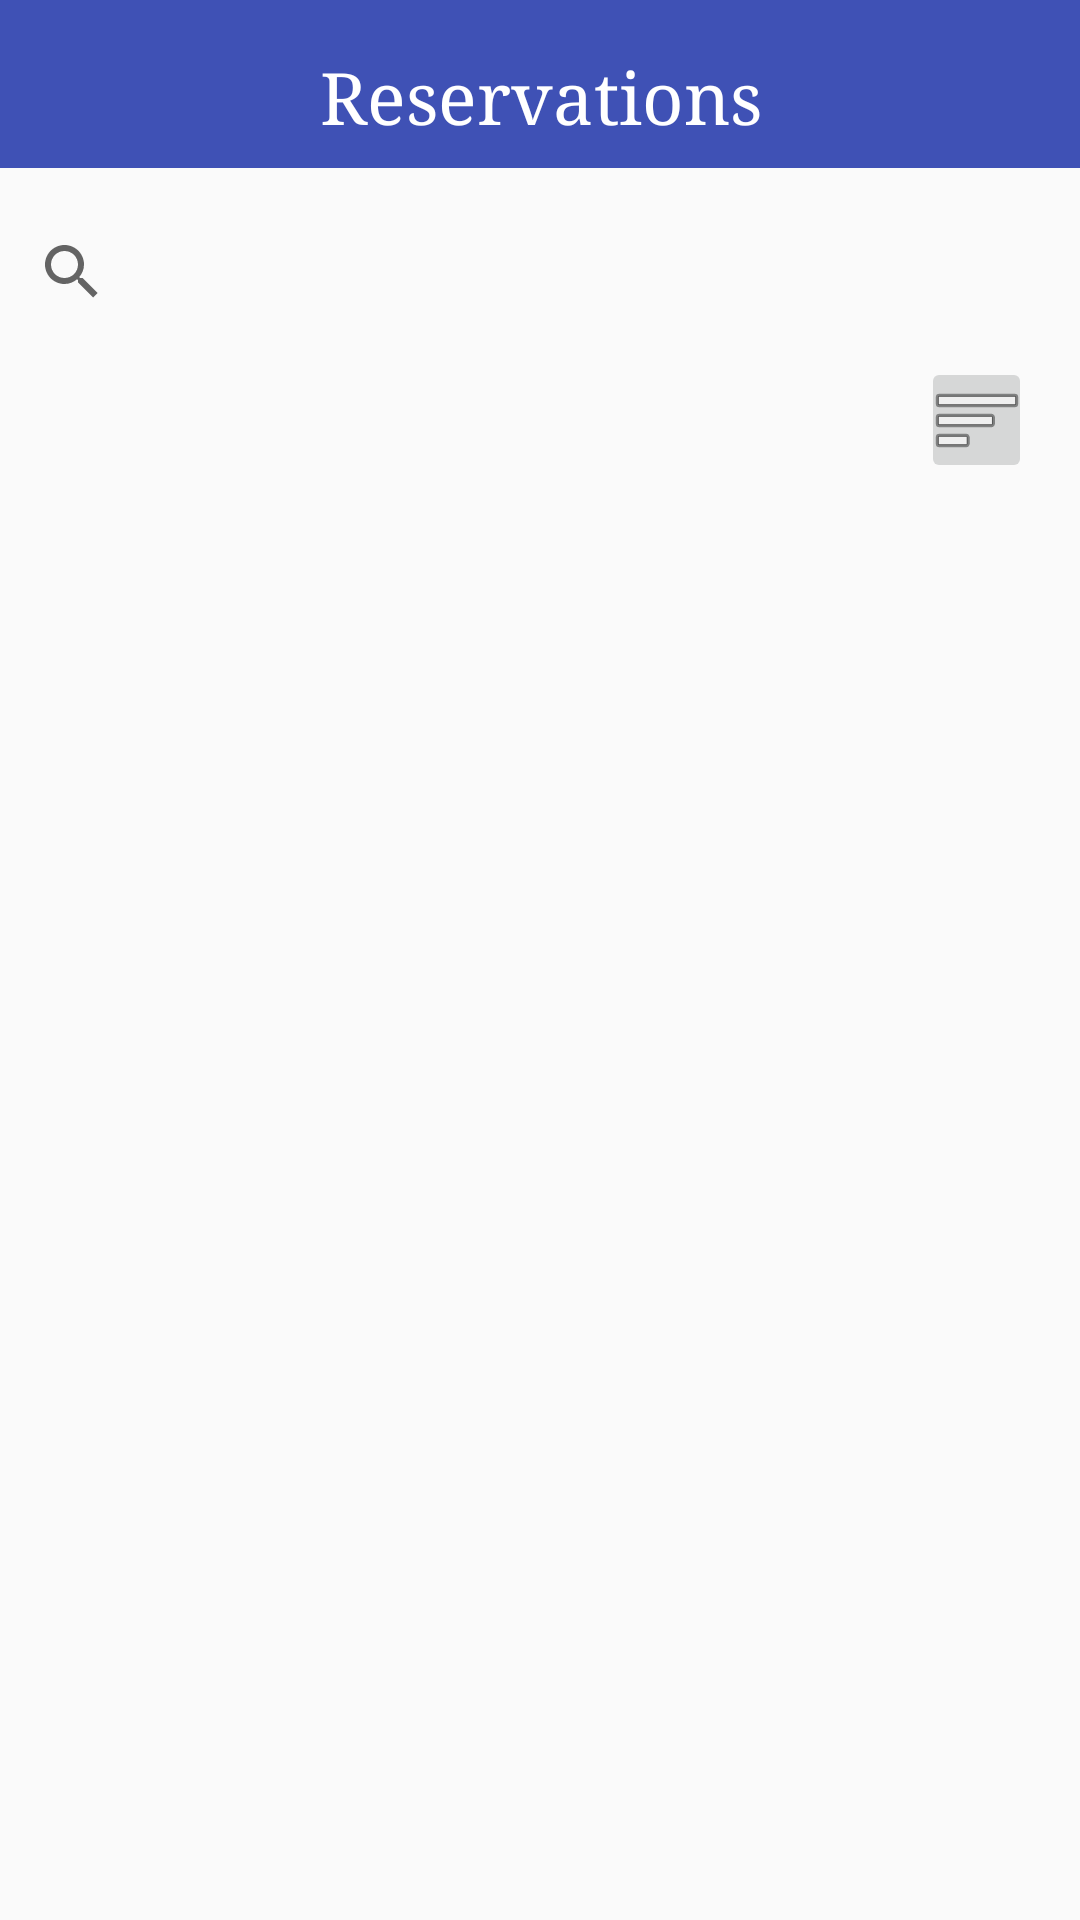

Screen size 1080 x 1920. Icon name, then its box in pixels as (x1, y1, x2, y2):
sort by size: (933, 375, 1020, 465)
